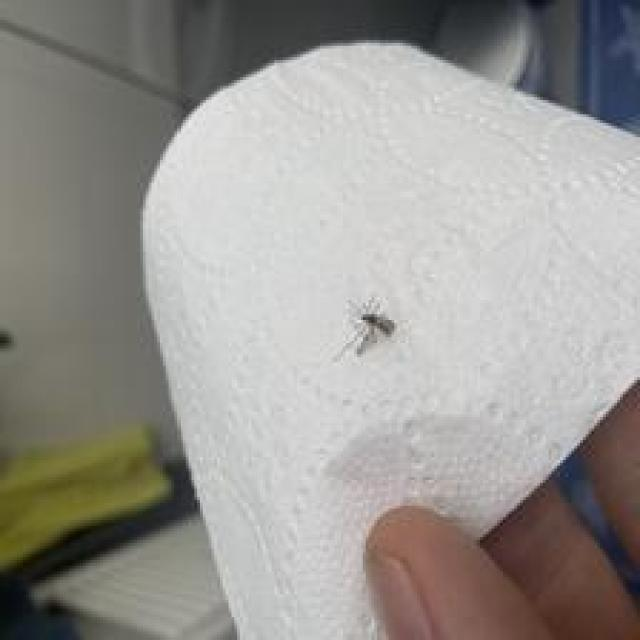Culex: (332, 294, 397, 363)
